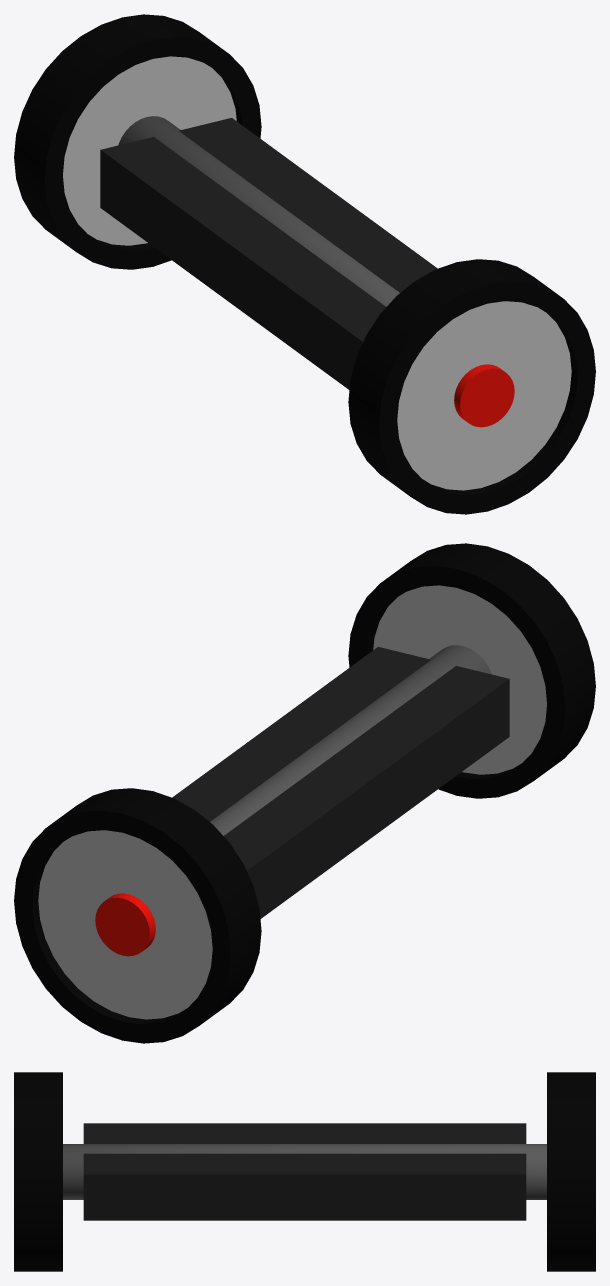
The model's file is Howard V2.fbx.
3 views of the same model, one above another, from view 1: azimuth 30°, elevation 25°; view 2: azimuth 150°, elevation 25°; view 3: azimuth 270°, elevation 25° (orthographic). The views are drawn at different scales.
Parts seen in each view (by area): view 1: Cylinder, Cube, Cylinder.001; view 2: Cylinder.001, Cube, Cylinder; view 3: Cube, Cylinder, Cylinder.001.
Boxes of the visible parts, box(x1,y1,x2,y2) form: Cylinder: box(348, 259, 595, 514); Cube: box(100, 116, 437, 389); Cylinder.001: box(14, 14, 261, 269); Cylinder.001: box(14, 788, 261, 1043); Cube: box(172, 645, 509, 918); Cylinder: box(348, 543, 595, 798); Cube: box(63, 1123, 546, 1220); Cylinder: box(14, 1072, 62, 1271); Cylinder.001: box(547, 1072, 595, 1271).
Bounding box in the file's own units: 234 × 234 × 681.
